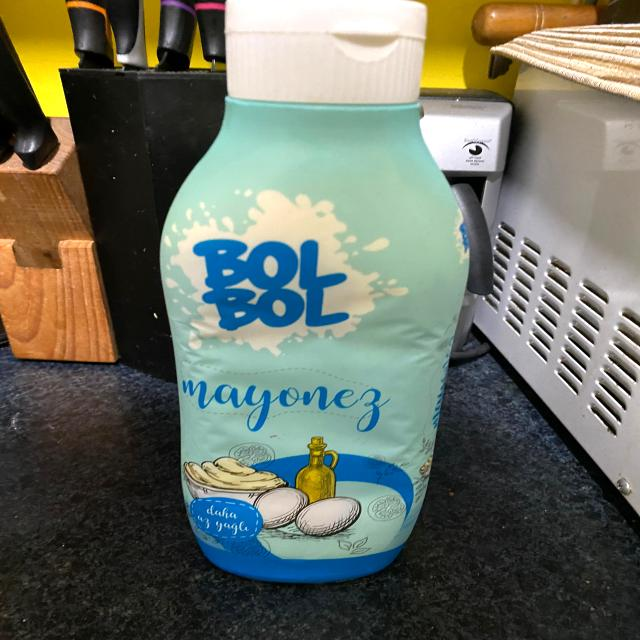mayonnaise: (143, 8, 516, 588)
